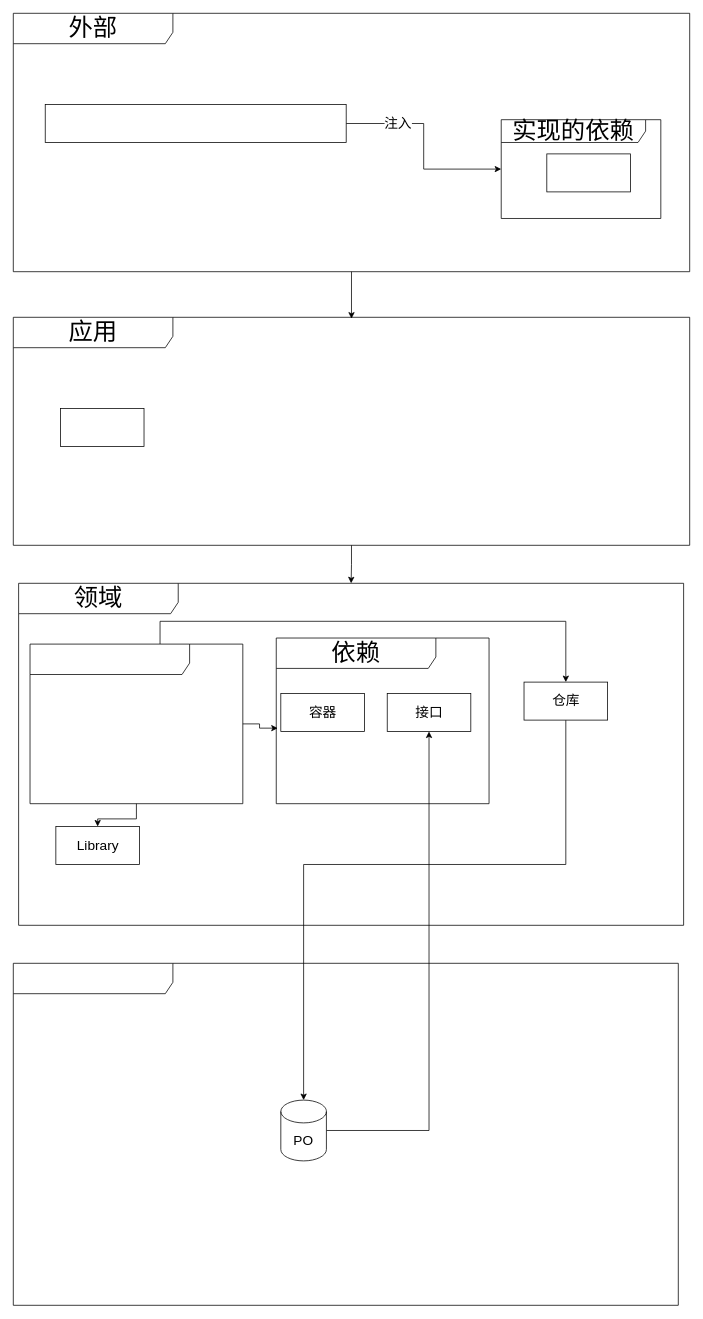
This 703x1319 diagram has some shape labels left out. Each missing label, with the centre of its shape:
"ISceneRender_Implement" belongs at (195,123).
"WebGL1" belongs at (588,172).
"基础设施" belongs at (345,1134).
"应用服务" belongs at (102,427).
"领域模型" belongs at (136,723).
